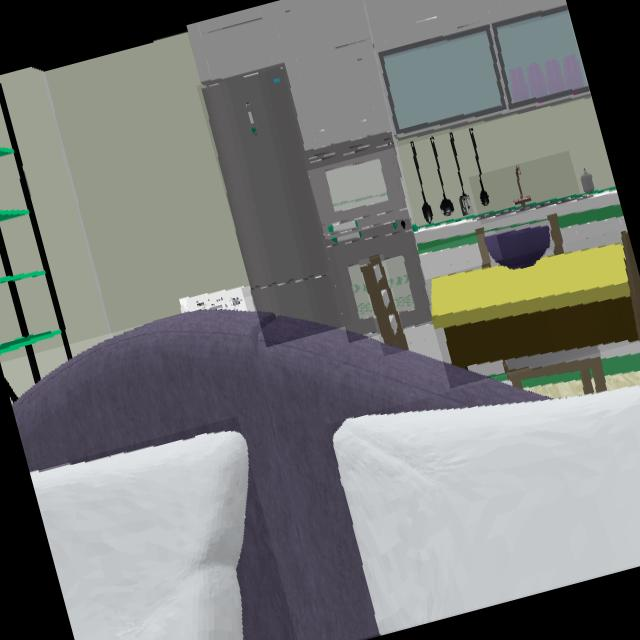cabinet: (188, 0, 591, 151)
chair: (360, 256, 408, 349)
fridge: (204, 64, 344, 327)
microwave: (306, 133, 408, 234)
oven: (326, 214, 432, 336)
pillow: (333, 388, 640, 632), (32, 432, 248, 640)
sink: (480, 164, 580, 219)
sofa: (12, 310, 540, 640)
table: (431, 244, 638, 369)
